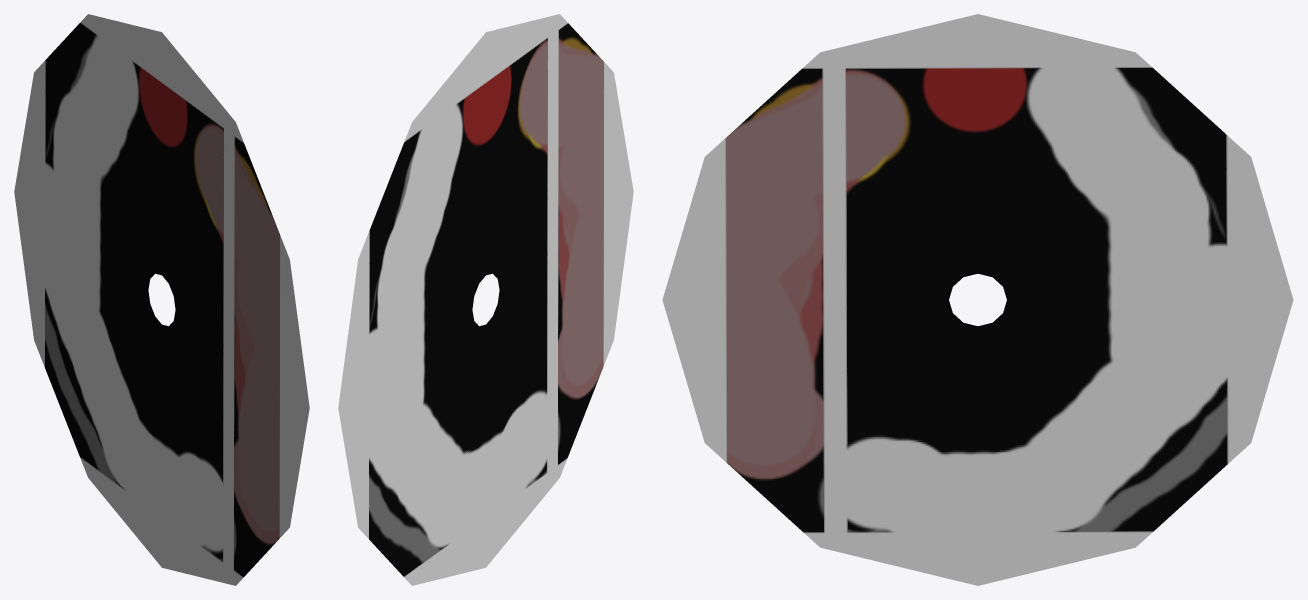
Rendered from TimeClockInterface.fbx.
3 views of the same model, side by side, from view 1: azimuth 30°, elevation 25°; view 2: azimuth 150°, elevation 25°; view 3: azimuth 270°, elevation 25° (orthographic). The views are drawn at different scales.
Parts seen in each view (by area): view 1: TimeClock2; view 2: TimeClock2; view 3: TimeClock2.
Boxes of the visible parts, x1=… form: TimeClock2: x1=14, y1=14, x2=309, y2=585; TimeClock2: x1=338, y1=14, x2=633, y2=585; TimeClock2: x1=662, y1=14, x2=1293, y2=585.
Bounding box in the file's own units: 0 × 3.74 × 3.74.
